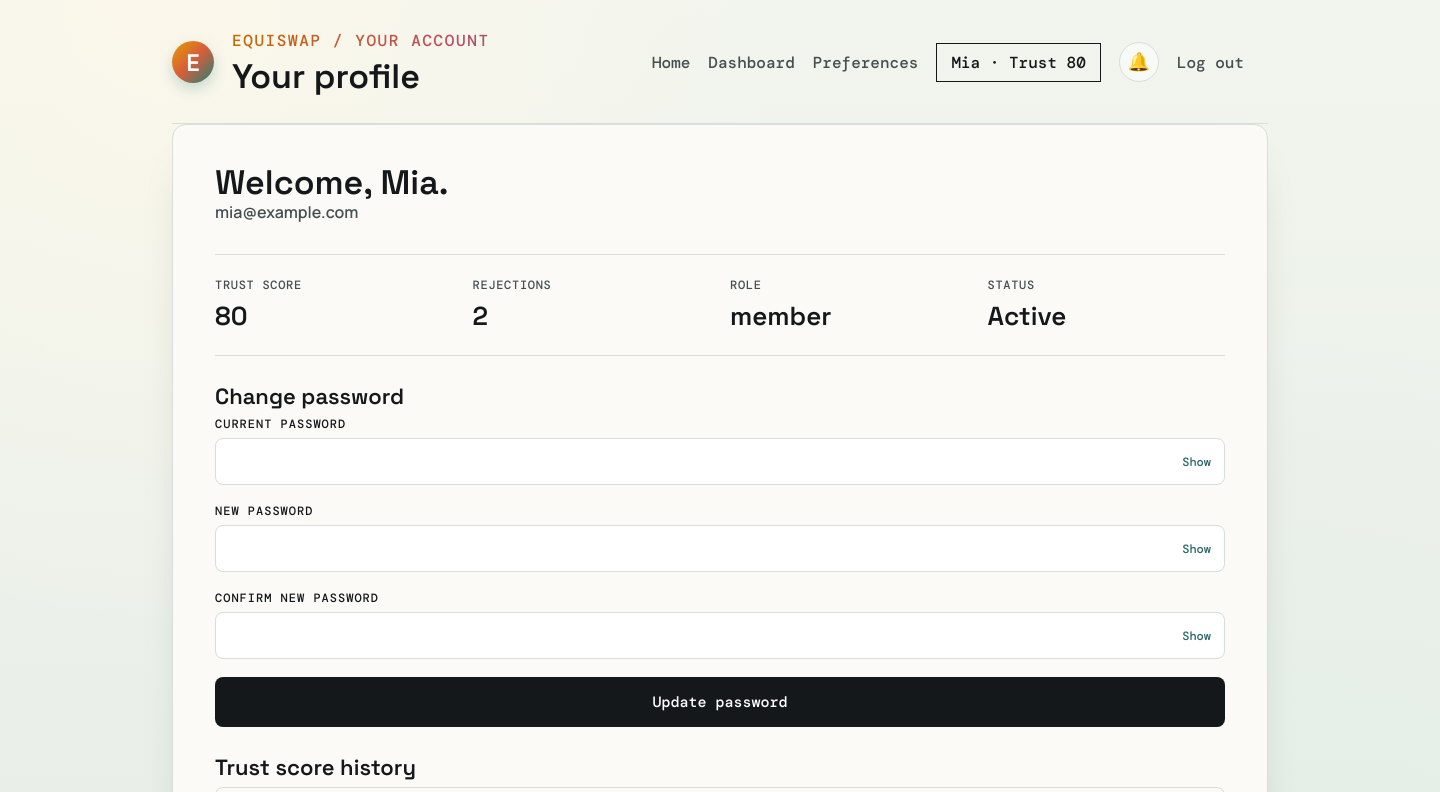
ProfilePage › shows an error when new password and confirmation do not match
The width and height of the screenshot is (1440, 792).
Step 1. Type "old-pass" into the password field labelled "Current password" → (720, 462), box [215,438,1225,485]
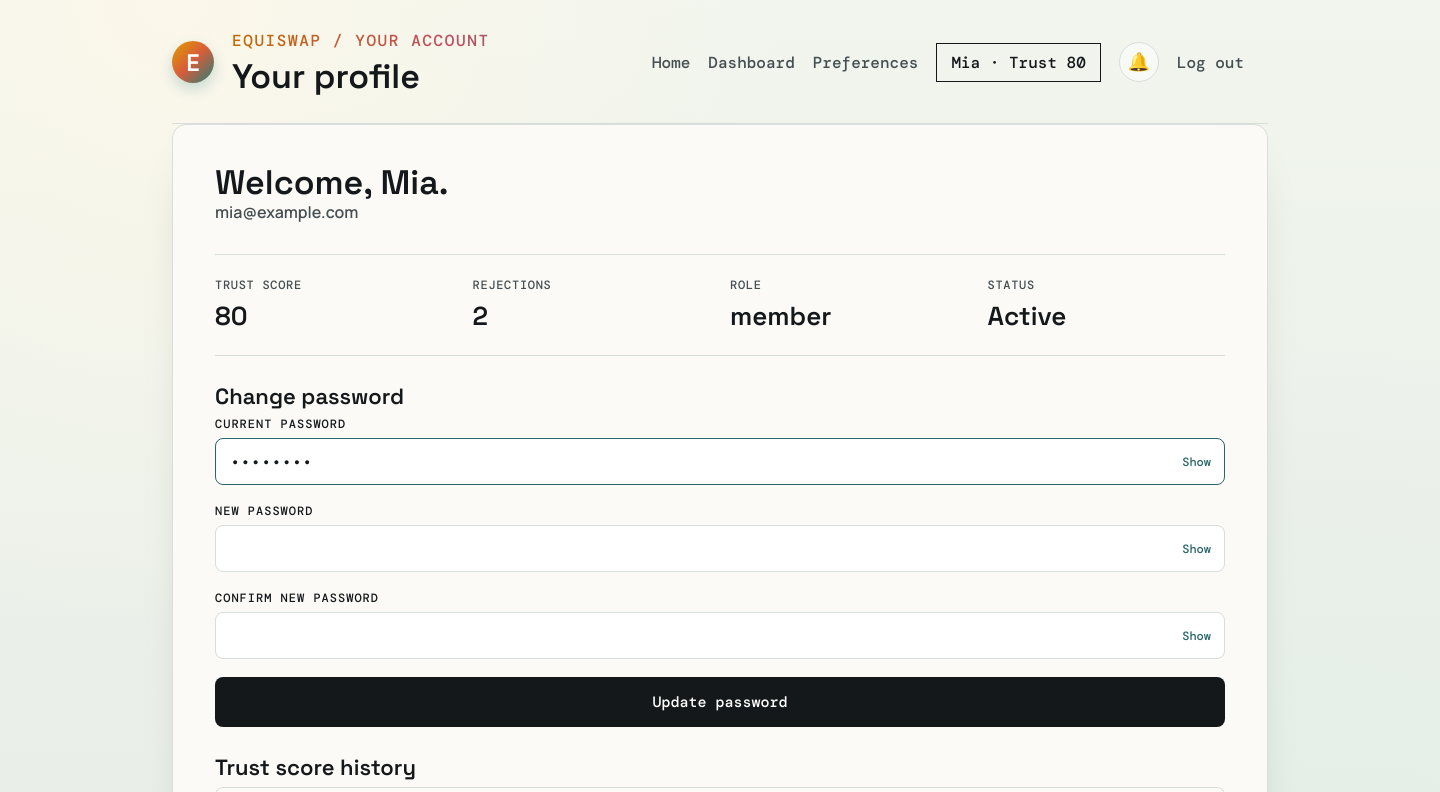
Step 2. Type "new-password" into the password field labelled "New password" → (720, 549), box [215,525,1225,572]
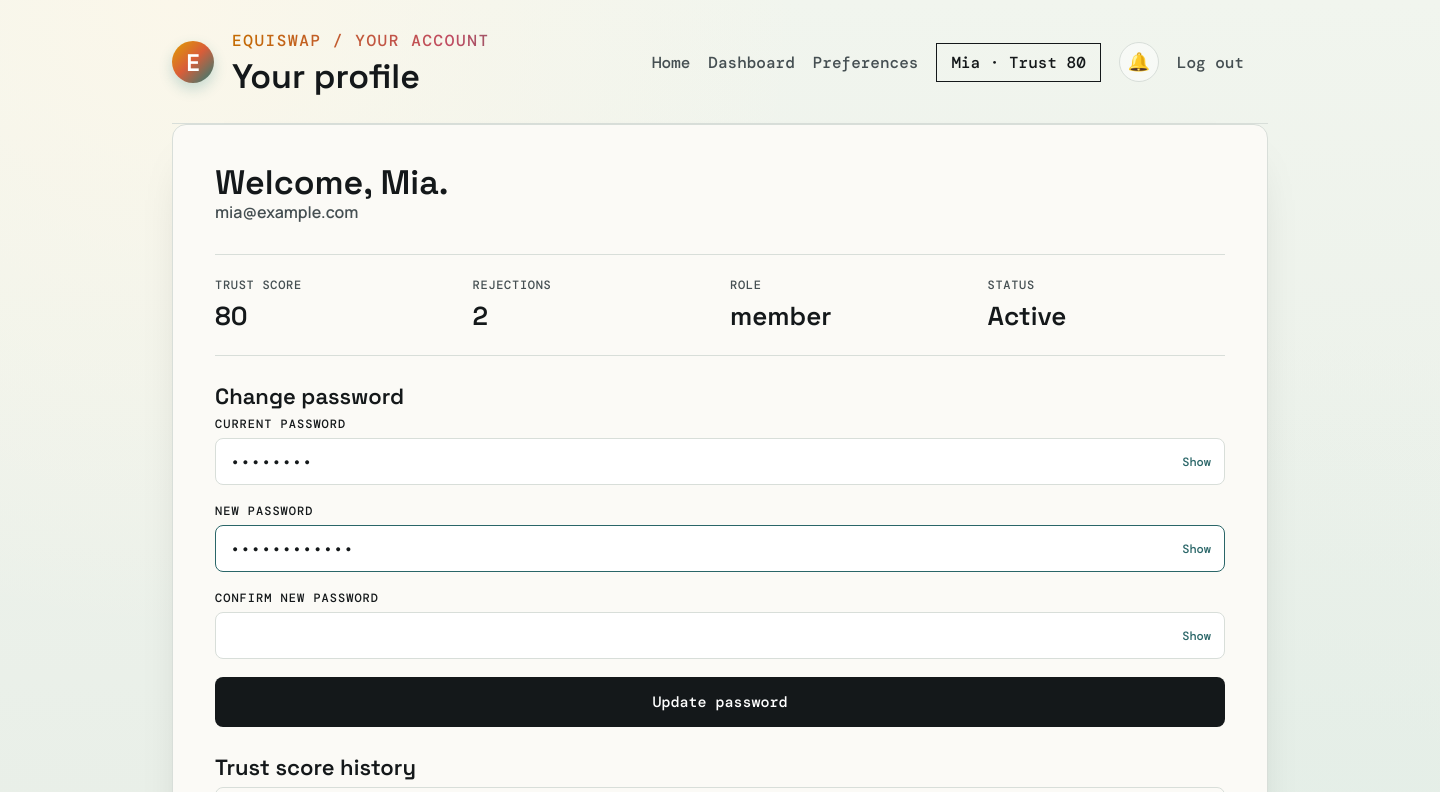
Step 3. Type "different-password" into the password field labelled "Confirm new password" → (720, 636), box [215,612,1225,659]
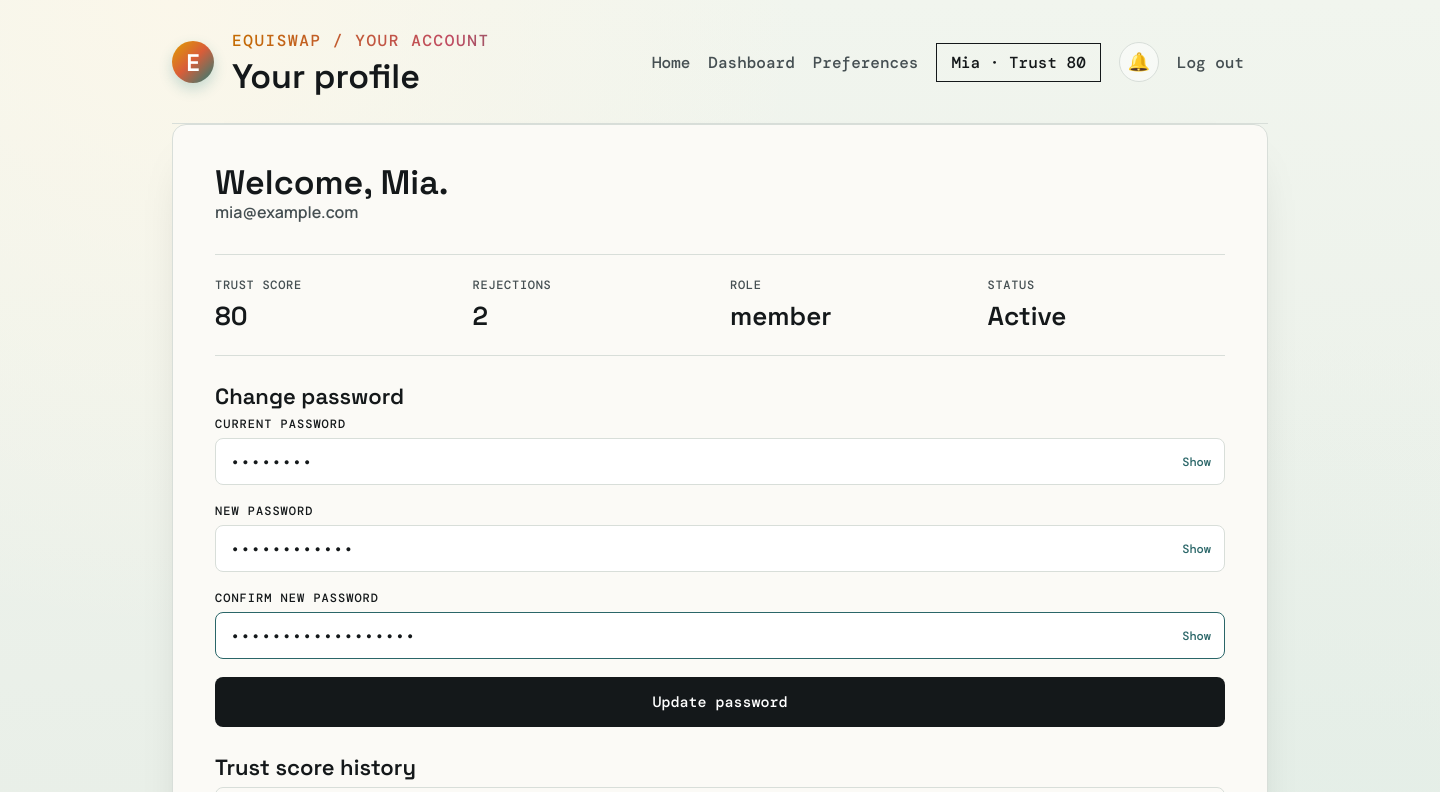
Step 4. Click the button "Update password" → (720, 702), box [215,677,1225,727]
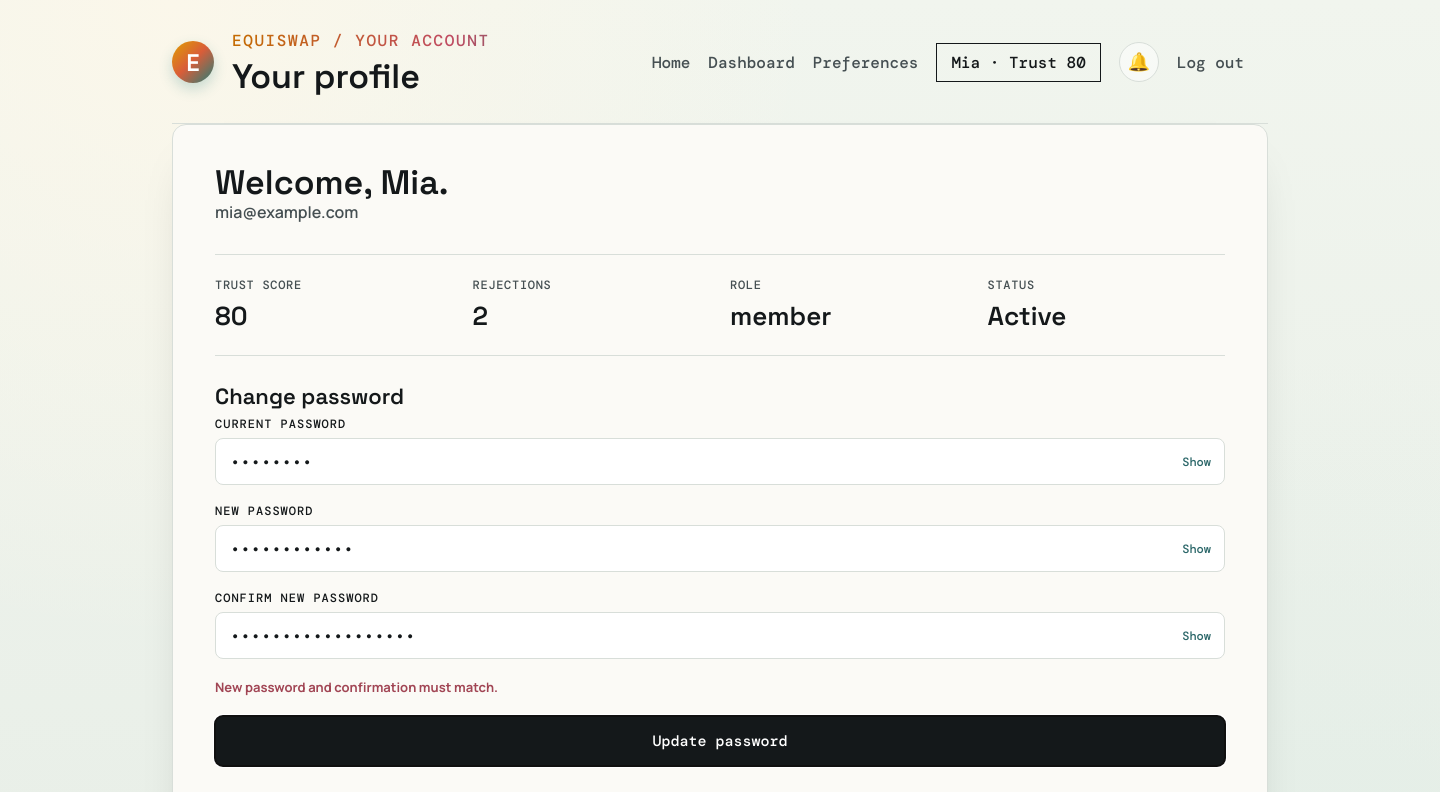
Now the text "New password and confirmation must match." is shown, box [215,678,498,696]
